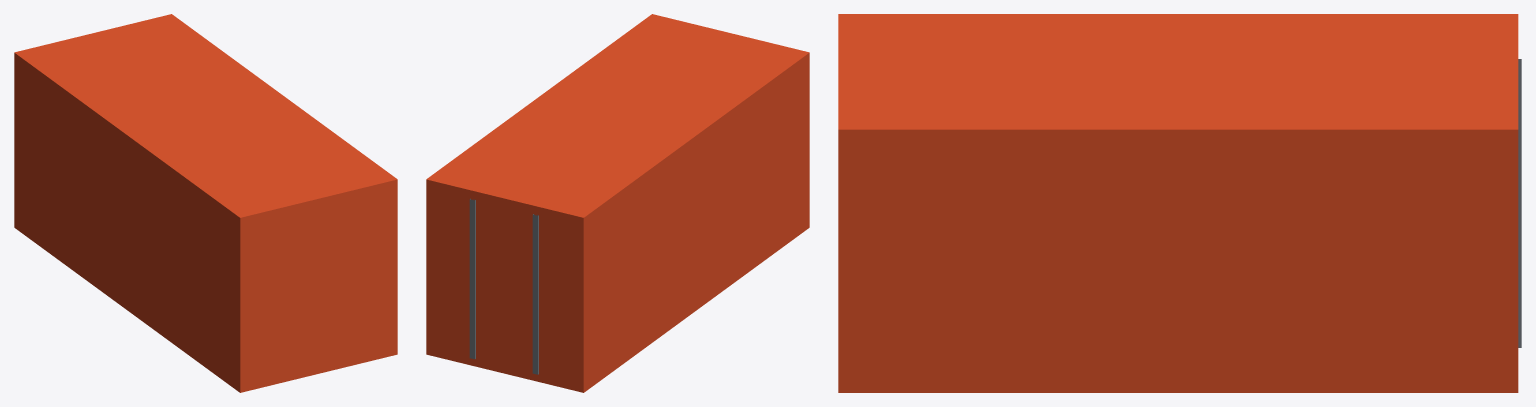
The model's file is port_container6.fbx.
The picture shows the model from 3 angles, left to right: view 1: azimuth 30°, elevation 25°; view 2: azimuth 150°, elevation 25°; view 3: azimuth 270°, elevation 25°; orthographic projection. The views are drawn at different scales.
Visible parts, largest first — view 1: a403_0_port_container6; view 2: a403_0_port_container6; view 3: a403_0_port_container6.
Part boxes in pixels (<box>): a403_0_port_container6: <box>14,14,397,392</box>; a403_0_port_container6: <box>426,14,809,392</box>; a403_0_port_container6: <box>838,14,1521,392</box>.
Bounding box in the file's own units: 2.44 × 2.59 × 6.09.
